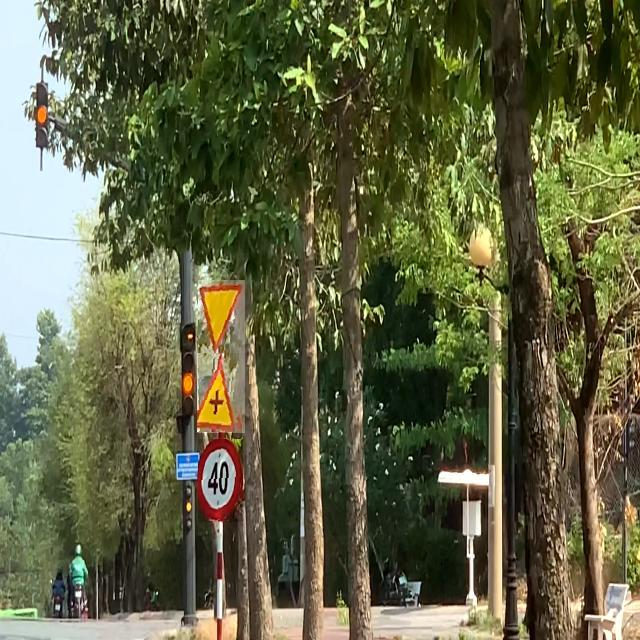P-127: (198, 439, 243, 522)
W-205a: (197, 354, 245, 434)
W-208: (198, 281, 245, 359)
